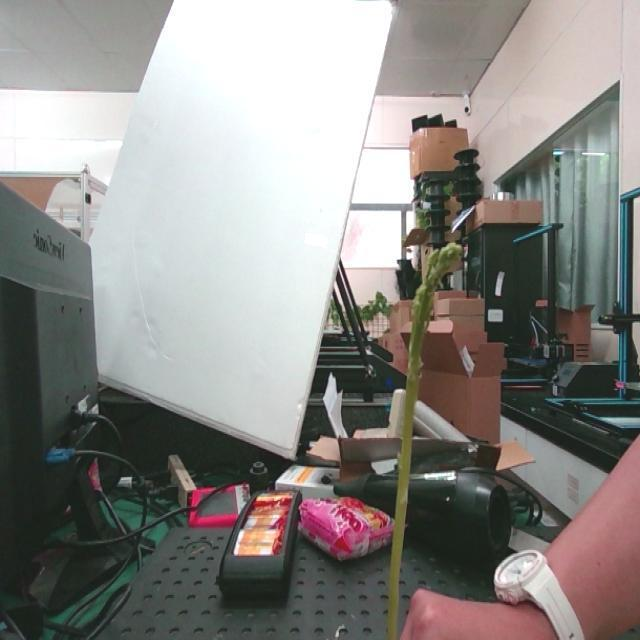aspargus: (387, 244, 461, 640)
